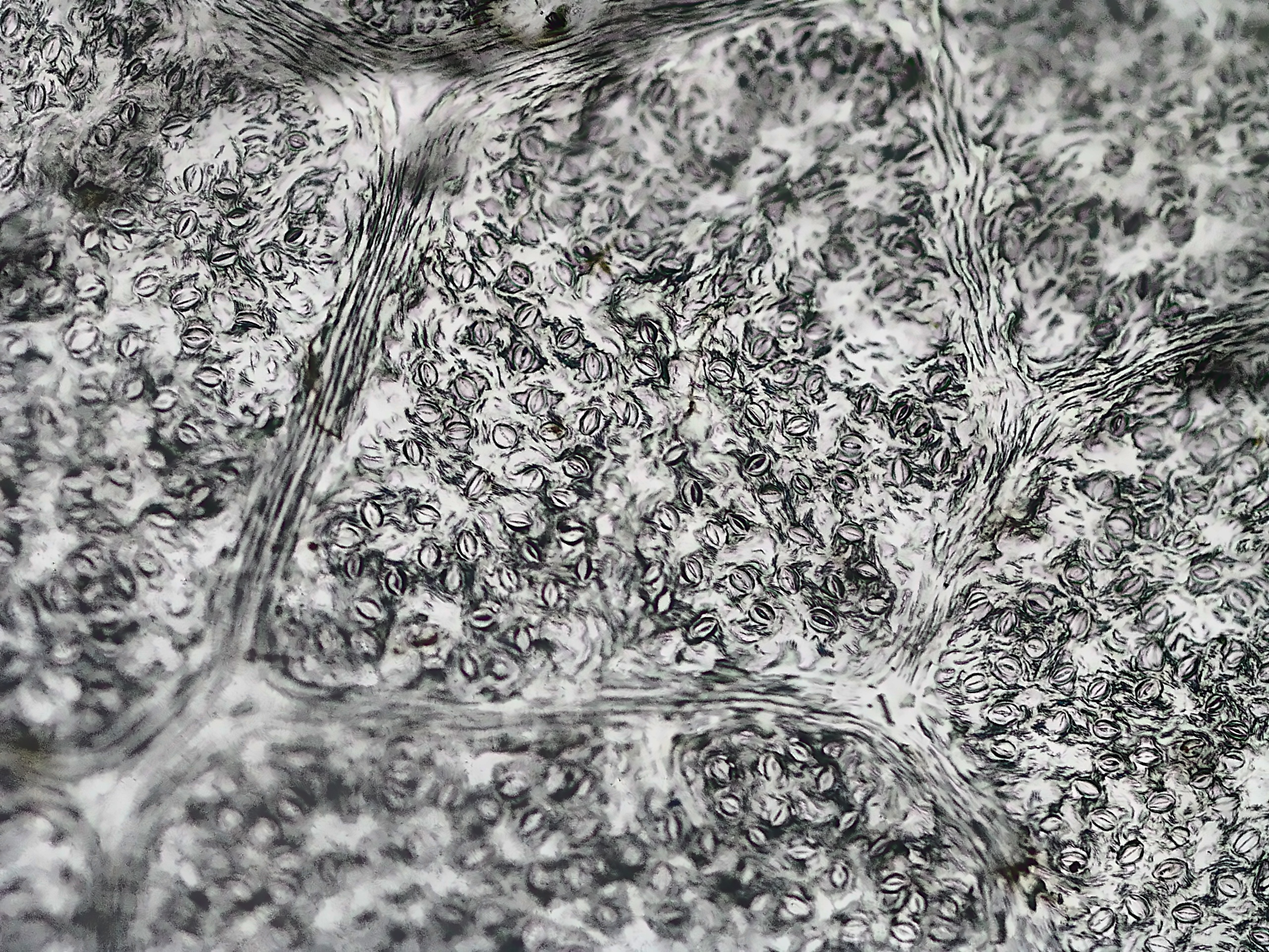stomata: (64, 321, 105, 358), (352, 595, 386, 625), (686, 612, 716, 641), (1104, 511, 1133, 540), (812, 764, 840, 794), (986, 702, 1021, 726), (889, 456, 915, 487), (712, 223, 743, 249), (181, 324, 211, 350), (961, 673, 991, 699), (1152, 858, 1187, 880), (806, 608, 838, 632), (1067, 609, 1091, 641), (408, 503, 441, 526), (556, 517, 585, 543), (243, 151, 273, 176), (1073, 775, 1103, 800), (1226, 583, 1252, 611), (1138, 641, 1164, 669), (552, 259, 577, 288), (132, 272, 162, 296), (442, 564, 466, 594), (24, 82, 46, 114), (453, 375, 480, 401), (1232, 828, 1261, 852), (360, 500, 383, 530), (777, 564, 800, 594), (581, 350, 603, 381), (493, 422, 519, 448), (519, 134, 545, 160), (507, 261, 534, 286), (703, 520, 728, 547), (1125, 894, 1152, 919), (160, 117, 192, 138), (66, 63, 90, 91), (465, 470, 489, 498), (1170, 902, 1202, 923), (680, 556, 703, 585), (175, 209, 197, 239), (451, 260, 473, 290), (1187, 563, 1220, 583), (1114, 574, 1145, 595), (729, 567, 755, 592), (418, 542, 442, 569), (709, 757, 736, 781), (384, 567, 407, 595), (1116, 841, 1144, 864), (1175, 652, 1198, 680), (182, 165, 204, 194), (708, 358, 733, 383), (1064, 559, 1089, 584), (477, 233, 503, 257), (750, 602, 776, 626), (1087, 908, 1113, 932), (1135, 678, 1161, 702), (109, 208, 136, 231), (744, 453, 771, 476), (657, 504, 680, 531), (512, 622, 532, 653), (1057, 850, 1088, 870), (512, 344, 534, 372), (497, 563, 519, 591), (467, 608, 496, 629), (149, 389, 178, 410), (836, 523, 865, 544), (881, 871, 910, 892), (1092, 475, 1113, 504), (634, 353, 659, 377), (194, 367, 224, 387), (403, 437, 423, 467), (789, 522, 814, 546), (80, 226, 105, 250), (175, 424, 201, 447), (1142, 602, 1168, 625), (616, 401, 638, 428), (854, 560, 882, 581), (40, 33, 60, 62), (682, 479, 702, 508), (292, 187, 316, 211), (515, 304, 539, 328), (748, 334, 772, 358), (838, 433, 863, 456), (525, 387, 547, 413), (1137, 473, 1163, 495), (560, 457, 590, 476), (581, 407, 602, 434), (831, 470, 858, 491), (1049, 662, 1076, 683), (601, 195, 622, 222), (504, 512, 532, 532), (343, 553, 363, 581), (1221, 720, 1249, 740), (1088, 677, 1111, 701), (1025, 592, 1048, 616), (908, 415, 931, 439), (787, 740, 812, 762), (458, 532, 479, 558), (653, 587, 674, 613), (117, 332, 138, 358), (996, 656, 1022, 677), (1217, 875, 1243, 896), (472, 319, 493, 345), (172, 290, 199, 310), (414, 402, 441, 422), (830, 863, 850, 890), (1091, 720, 1121, 738), (443, 421, 471, 440), (890, 922, 918, 941), (778, 311, 801, 334), (726, 511, 748, 535), (519, 540, 540, 565), (758, 484, 783, 505), (459, 652, 480, 677), (538, 421, 567, 439), (209, 245, 235, 265), (661, 445, 687, 465), (1024, 637, 1051, 656), (1096, 754, 1123, 773), (1147, 794, 1177, 811), (929, 448, 952, 470), (745, 403, 766, 427), (722, 272, 746, 293), (719, 793, 743, 814), (1091, 807, 1115, 828), (518, 470, 543, 490), (990, 738, 1015, 758), (543, 577, 560, 606), (109, 22, 127, 49), (575, 555, 593, 582), (764, 754, 782, 781), (822, 575, 844, 597), (640, 562, 662, 584), (556, 326, 579, 347), (1094, 541, 1117, 562), (418, 361, 438, 385), (997, 610, 1017, 634), (1133, 748, 1161, 765), (1211, 795, 1239, 812), (262, 247, 281, 272), (858, 390, 876, 416), (784, 416, 810, 434), (124, 157, 147, 177), (213, 178, 236, 198), (167, 65, 184, 92), (768, 804, 787, 828), (1052, 711, 1071, 735), (1180, 739, 1204, 758), (1039, 813, 1063, 832), (806, 321, 831, 339), (124, 377, 145, 398), (891, 401, 911, 423), (908, 891, 928, 913), (140, 183, 163, 202), (791, 470, 810, 493), (639, 320, 657, 344), (657, 256, 682, 273), (1221, 749, 1246, 766), (773, 367, 798, 384), (228, 208, 249, 228), (127, 59, 147, 80), (864, 596, 889, 612), (96, 124, 115, 145), (286, 131, 307, 150), (804, 372, 823, 393), (1169, 827, 1190, 846), (549, 491, 572, 508), (285, 227, 305, 246), (119, 102, 137, 123), (747, 828, 768, 846), (1176, 530, 1197, 548), (1148, 515, 1164, 538), (1191, 771, 1213, 787), (836, 812, 859, 827), (1205, 695, 1223, 714)
